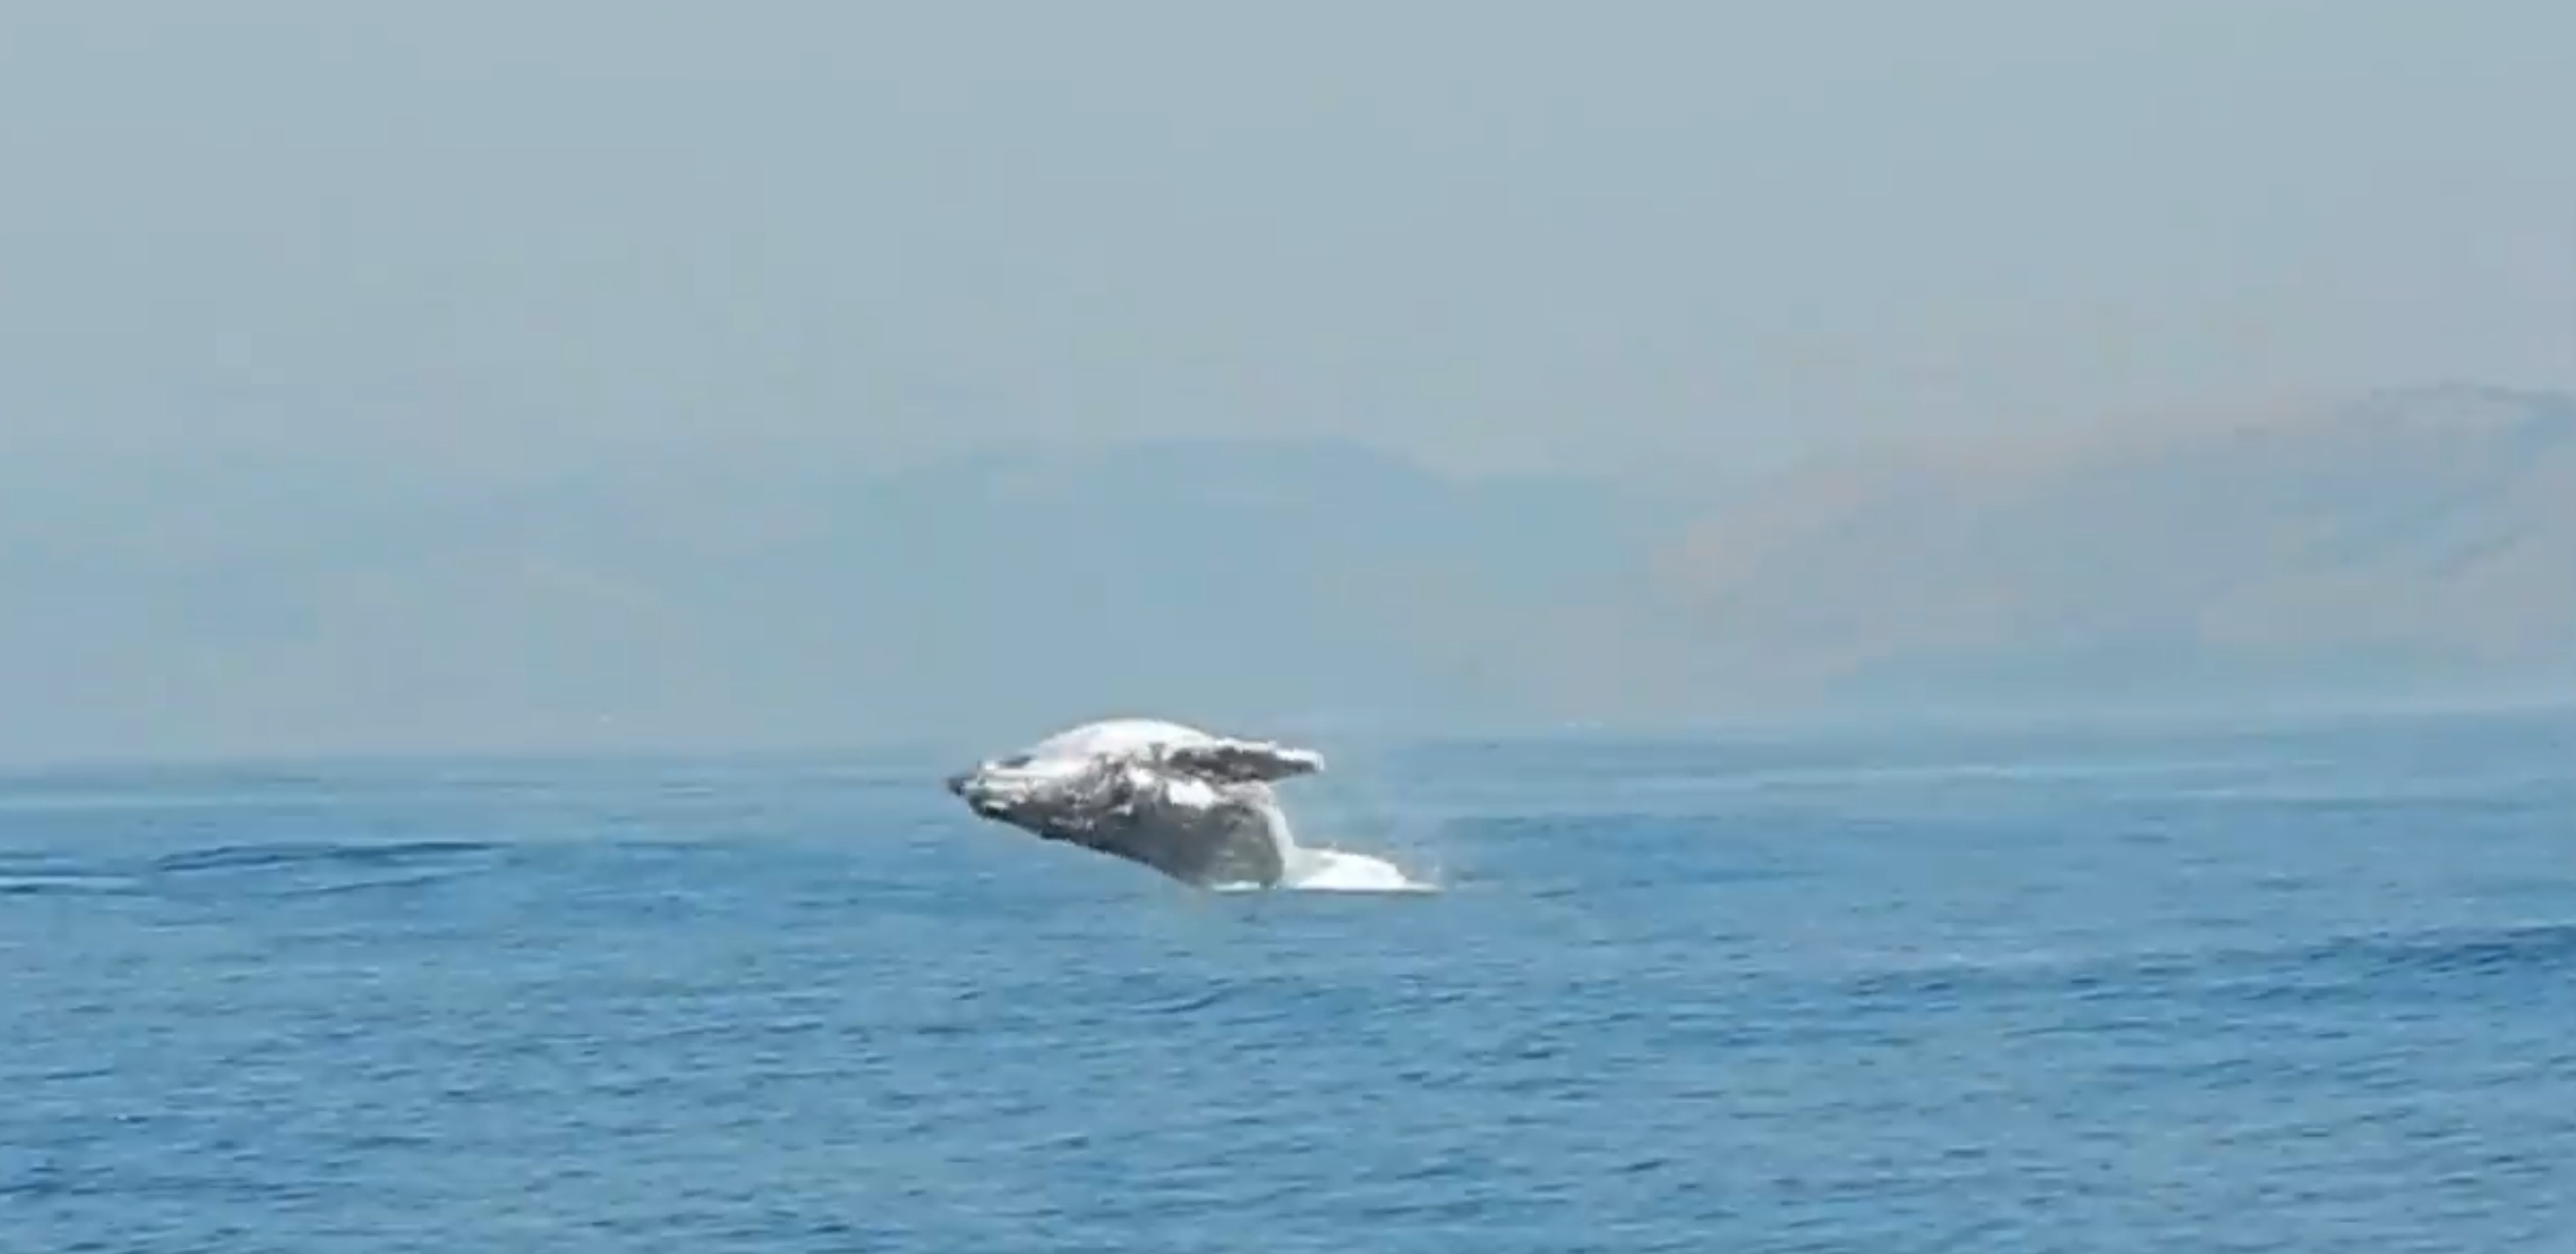humpback: (946, 717, 1303, 886)
